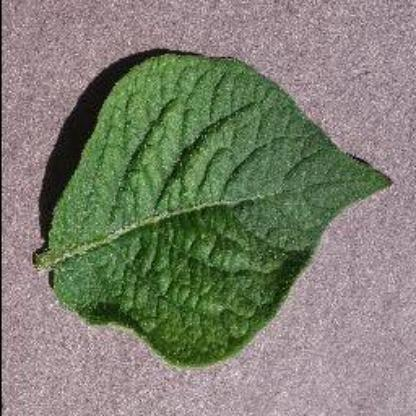Healthy-plant: (36, 46, 390, 370)
